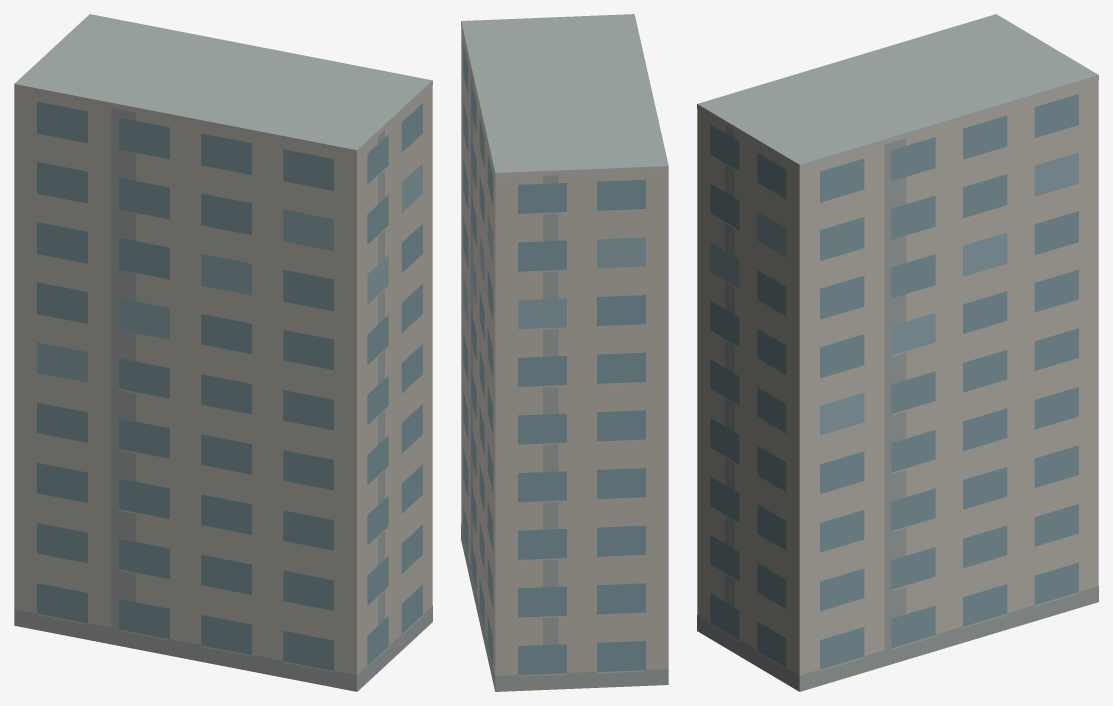
The model's file is residential-d26f4334-8608-48d7-a1c0-5a9a3abfffe3.glb.
3 views of the same model, side by side, from view 1: azimuth 30°, elevation 25°; view 2: azimuth 150°, elevation 25°; view 3: azimuth 270°, elevation 25° (orthographic). The views are drawn at different scales.
Visible parts, largest first — view 1: residential-d26f4334-8608-48d7-a1c0-5a9a3abfffe3.tmp; view 2: residential-d26f4334-8608-48d7-a1c0-5a9a3abfffe3.tmp; view 3: residential-d26f4334-8608-48d7-a1c0-5a9a3abfffe3.tmp.
Boxes of the visible parts, left/top/right/bottom form: residential-d26f4334-8608-48d7-a1c0-5a9a3abfffe3.tmp: left=14, top=14, right=432, bottom=691; residential-d26f4334-8608-48d7-a1c0-5a9a3abfffe3.tmp: left=461, top=14, right=668, bottom=691; residential-d26f4334-8608-48d7-a1c0-5a9a3abfffe3.tmp: left=697, top=14, right=1098, bottom=691.
Size of the model in its own units: 15.96 by 26 by 17.97.
